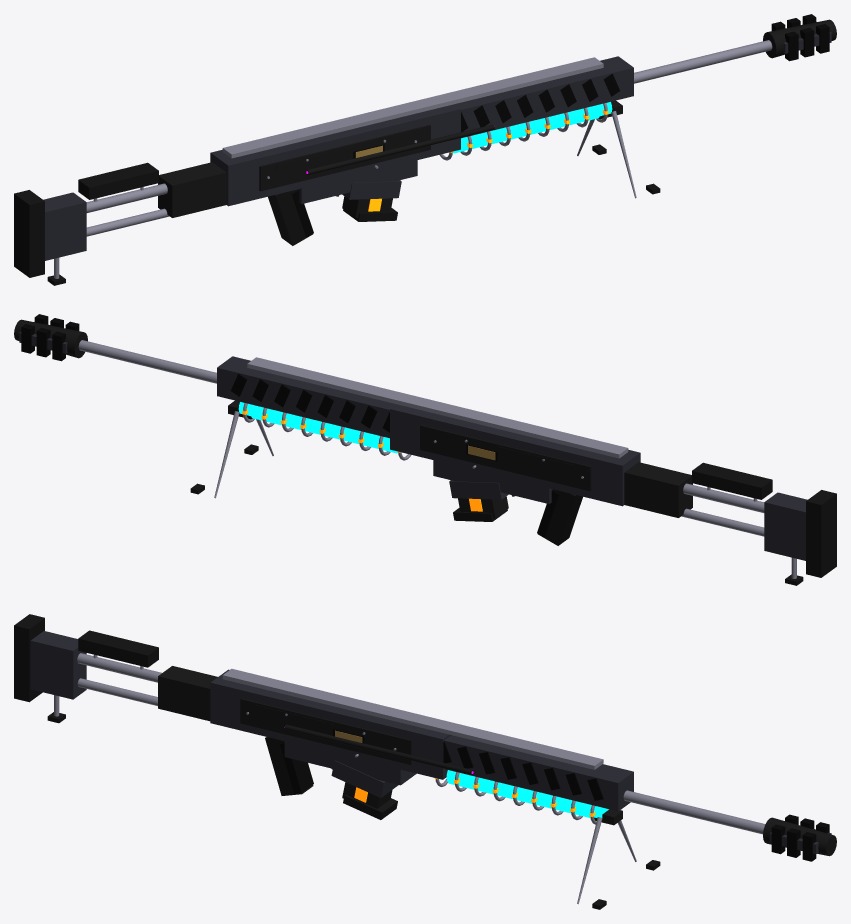
File: cecchino.glb
3 views of the same model, one above another, from view 1: azimuth 30°, elevation 25°; view 2: azimuth 150°, elevation 25°; view 3: azimuth 330°, elevation 25° (orthographic).
Parts seen in each view (by area): view 1: SniperRifle; view 2: SniperRifle; view 3: SniperRifle.
Part boxes in pixels (x1,y1,x2,y2): SniperRifle: (14, 14, 836, 285); SniperRifle: (14, 314, 836, 585); SniperRifle: (14, 614, 836, 909).
Size of the model in its own units: 10.45 by 1.49 by 1.35.
